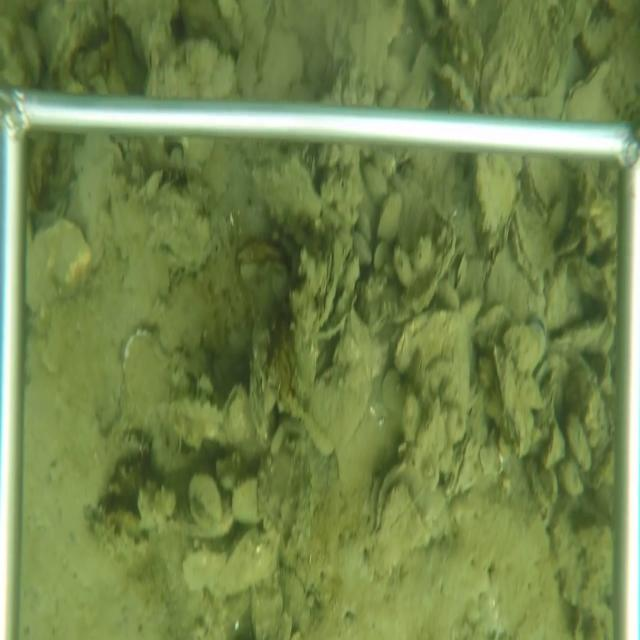Oyster-Closed: (301, 311, 372, 460), (385, 219, 463, 325), (491, 339, 545, 460), (313, 233, 345, 335), (561, 59, 615, 119), (249, 318, 273, 448), (446, 433, 474, 504), (526, 156, 553, 222)
Oyster-Indeterminate: (28, 215, 94, 311), (142, 36, 241, 98), (118, 324, 172, 435), (209, 526, 283, 598)
Oyster-Open: (511, 200, 556, 297)
